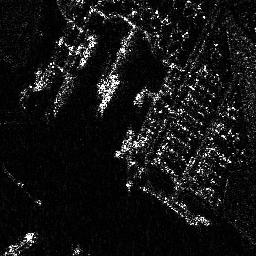ship: (95, 73, 120, 114), (1, 230, 37, 256), (78, 33, 98, 68)
